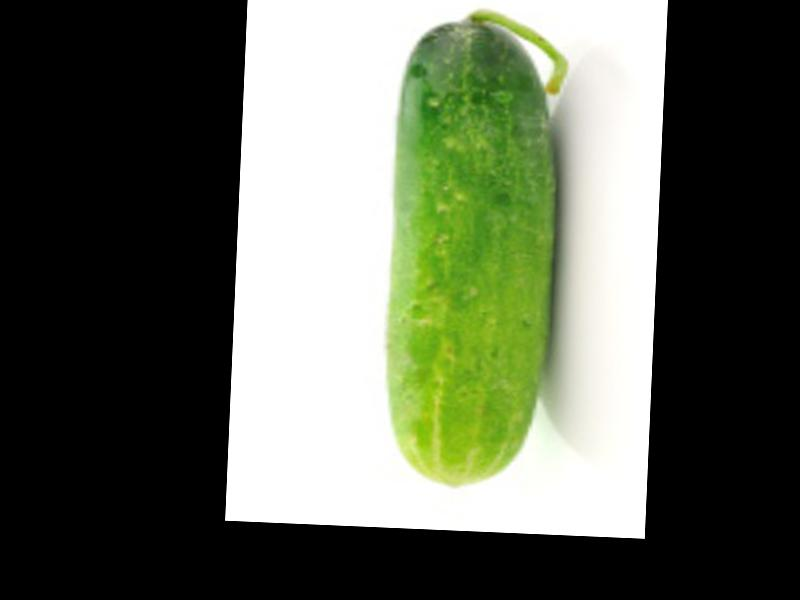Cucumber: (380, 10, 569, 495)
